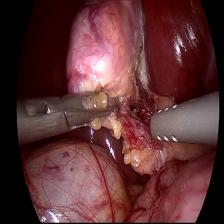Grasper: (16, 82, 124, 142)
Irrigator: (149, 97, 195, 150)
